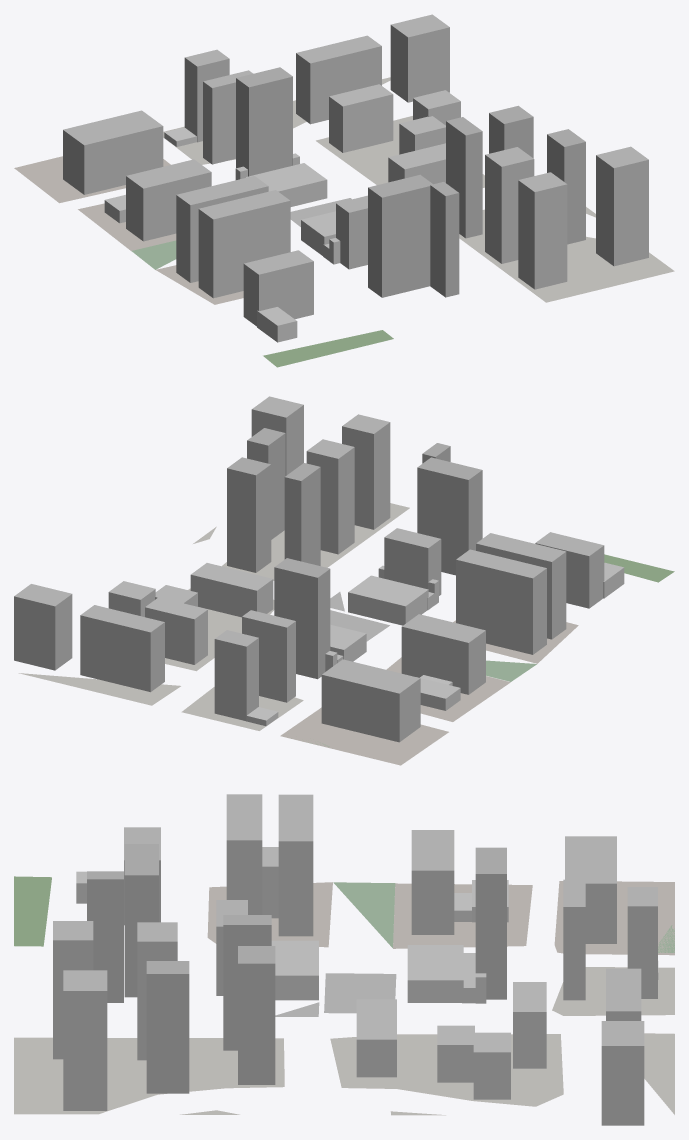
The model's file is 120_86_mid.glb.
3 views of the same model, one above another, from view 1: azimuth 30°, elevation 25°; view 2: azimuth 150°, elevation 25°; view 3: azimuth 270°, elevation 25° (orthographic). The views are drawn at different scales.
Bounding box in the file's own units: 441 × 106 × 500.
